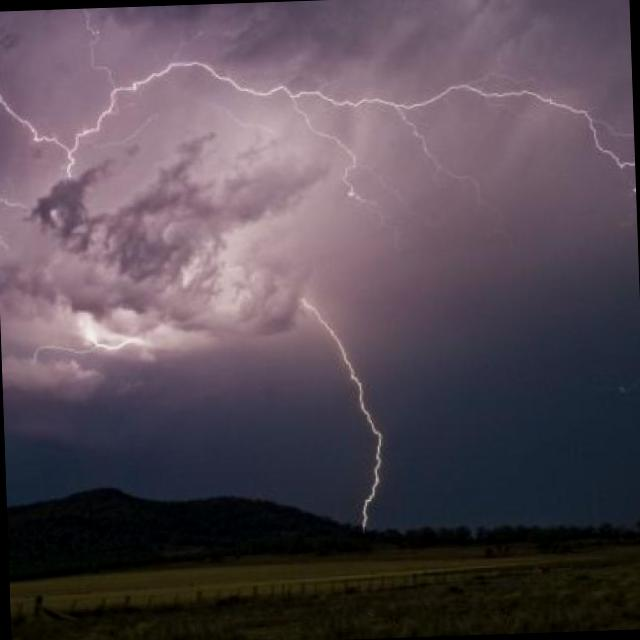cumulonimbus: (0, 0, 635, 485)
